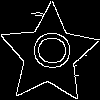O: (24, 29, 71, 71)
